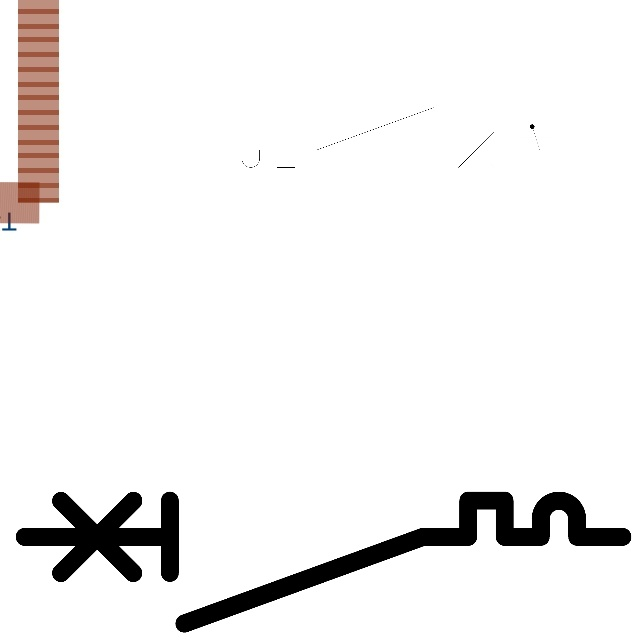interruptor_termomagnetico: (9, 485, 638, 639), (212, 100, 520, 175)
